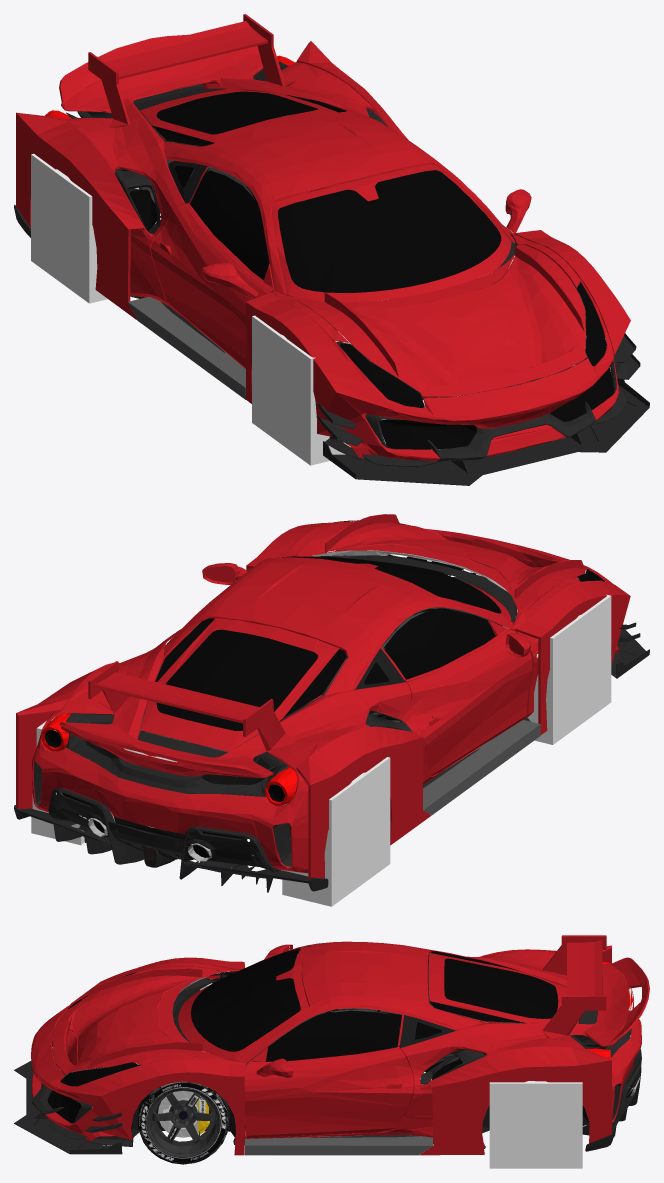
Rendered from pista.glb.
3 renders of one model, top to bottom at view 1: azimuth 30°, elevation 25°; view 2: azimuth 150°, elevation 25°; view 3: azimuth 270°, elevation 25°, orthographic. The views are drawn at different scales.
Parts seen in each view (by area): view 1: body, wheelFrontRight, wheelBackRight; view 2: body, wheelBackRight, wheelFrontRight, wheelBackLeft; view 3: body, wheelBackLeft, wheelFrontLeft.
Part boxes in pixels (bbox=[...]): body: bbox=[14, 14, 649, 485]; wheelFrontRight: bbox=[252, 315, 351, 465]; wheelBackRight: bbox=[31, 153, 138, 303]; body: bbox=[14, 514, 649, 892]; wheelBackRight: bbox=[282, 757, 390, 906]; wheelFrontRight: bbox=[503, 594, 611, 744]; wheelBackLeft: bbox=[31, 717, 114, 845]; body: bbox=[14, 935, 649, 1155]; wheelBackLeft: bbox=[489, 1081, 582, 1168]; wheelFrontLeft: bbox=[136, 1081, 229, 1164].
Bounding box in the file's own units: 2.3 × 1.22 × 4.89.
41 materials, 6 textured.
